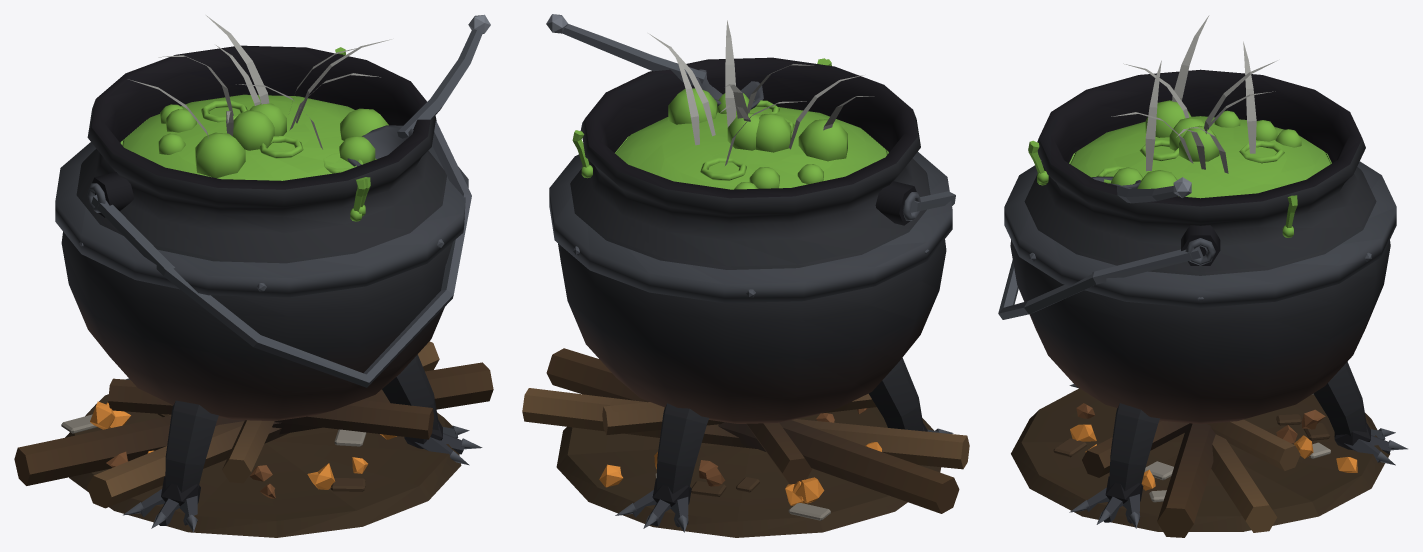
File: cauldron_01.glb
The picture shows the model from 3 angles, left to right: view 1: azimuth 30°, elevation 25°; view 2: azimuth 150°, elevation 25°; view 3: azimuth 270°, elevation 25°; orthographic projection. The views are drawn at different scales.
Visible parts, largest first — view 1: cauldron_01; view 2: cauldron_01; view 3: cauldron_01.
Part boxes in pixels (box(x1,y1,x2,y2)): cauldron_01: box(14, 14, 493, 537); cauldron_01: box(522, 14, 969, 537); cauldron_01: box(998, 15, 1407, 537).
Size of the model in its own units: 1.33 by 1.2 by 1.15.
